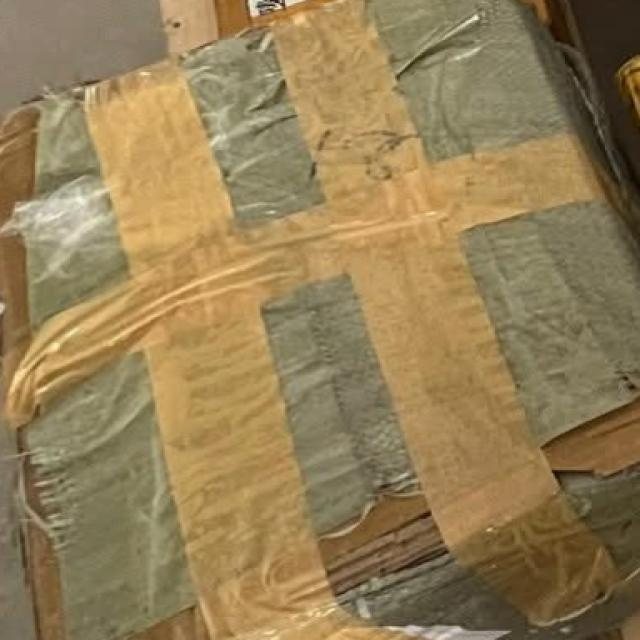carton_box: (0, 0, 640, 640), (0, 21, 640, 640)
package_damage: (288, 450, 640, 618), (0, 57, 182, 168)
